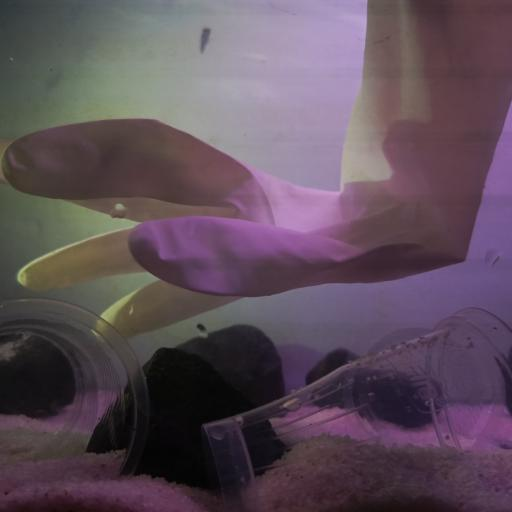glove: (5, 0, 512, 341)
plastic_cup: (203, 303, 512, 512), (0, 296, 154, 483)
